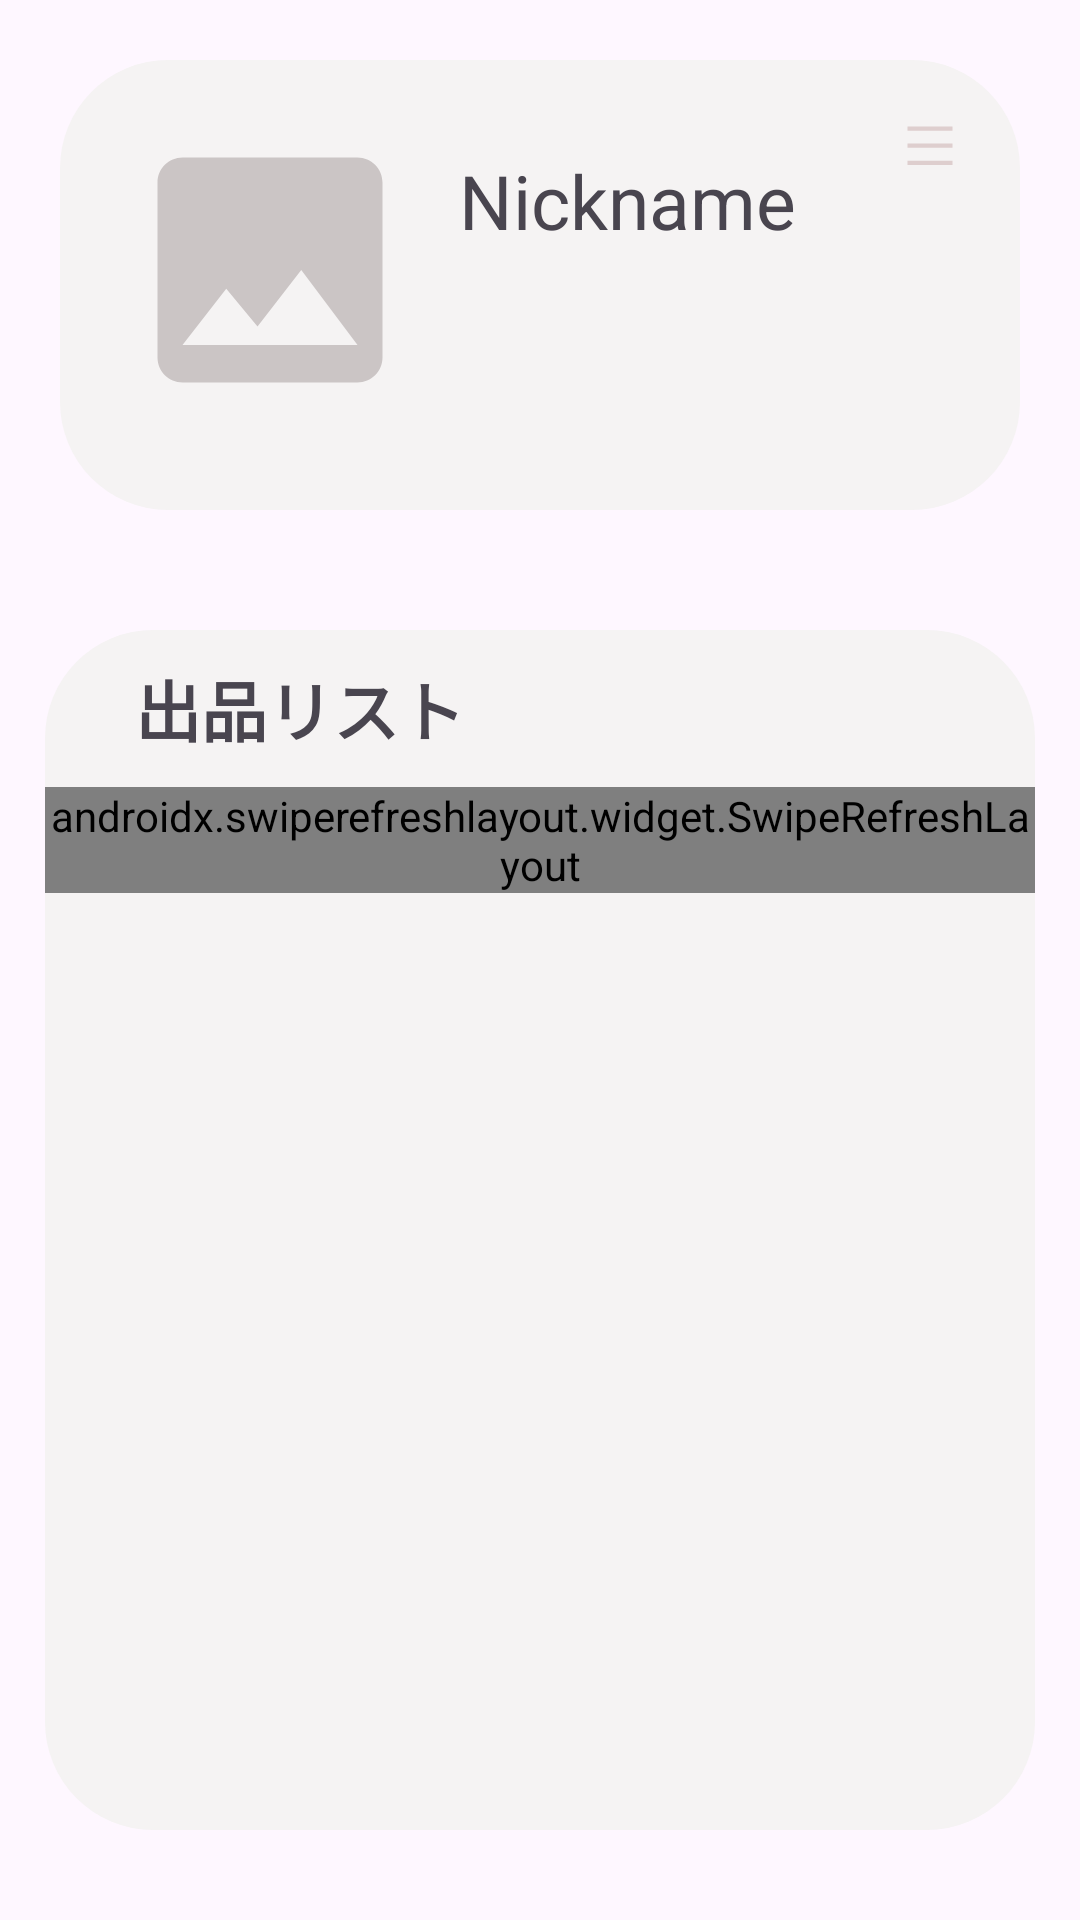

Where icons sit on this 1080px×1920px app screen, as detection(x1, y1, x2, y2):
density medium: detection(908, 127, 952, 165)
photo: detection(158, 158, 382, 382)
